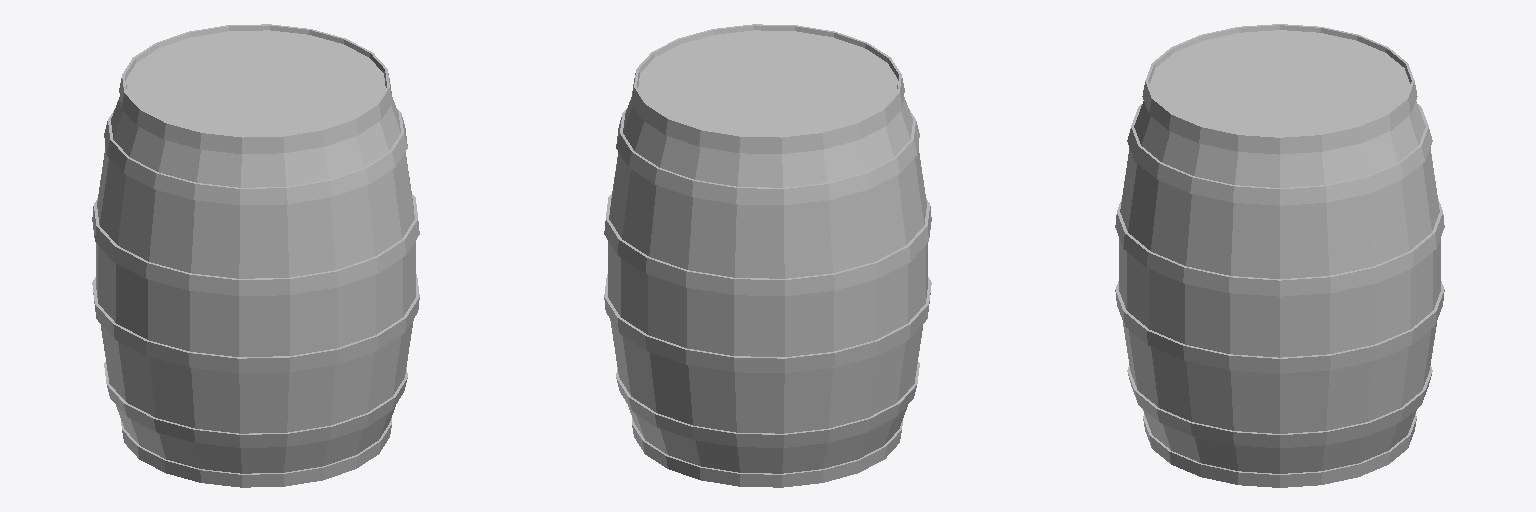
Rendered from Barrel.obj.
3 views of the same model, side by side, from view 1: azimuth 30°, elevation 25°; view 2: azimuth 150°, elevation 25°; view 3: azimuth 270°, elevation 25° (orthographic).
Visible parts, largest first — view 1: Barrel; view 2: Barrel; view 3: Barrel.
Boxes of the visible parts, <box> form: Barrel: <box>92,24,419,487</box>; Barrel: <box>604,24,931,487</box>; Barrel: <box>1115,24,1444,487</box>.
Bounding box in the file's own units: 81.1 × 95.12 × 81.1.